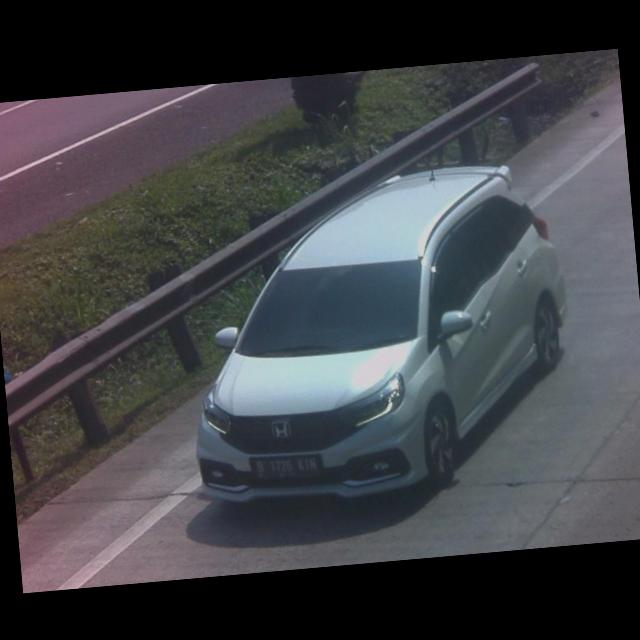plate: (248, 448, 324, 485)
